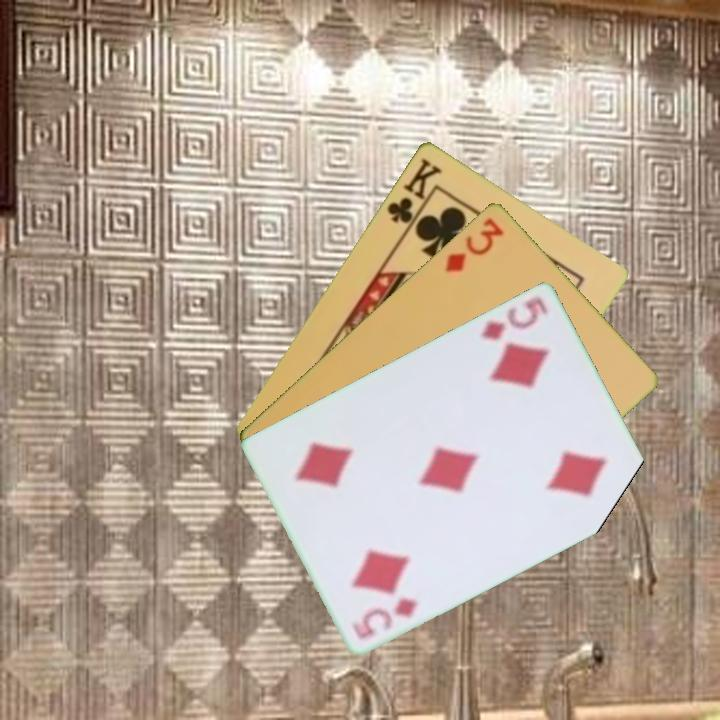3d: (442, 213, 507, 275)
5d: (477, 292, 551, 343), (348, 593, 421, 642)
Kc: (383, 154, 445, 235)
